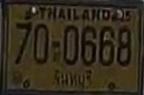0: (33, 23, 48, 63), (63, 24, 78, 64)
6: (98, 25, 114, 65), (80, 25, 96, 65)
7: (14, 22, 31, 63)
8: (116, 26, 130, 65)
CTI: (50, 68, 96, 92)
